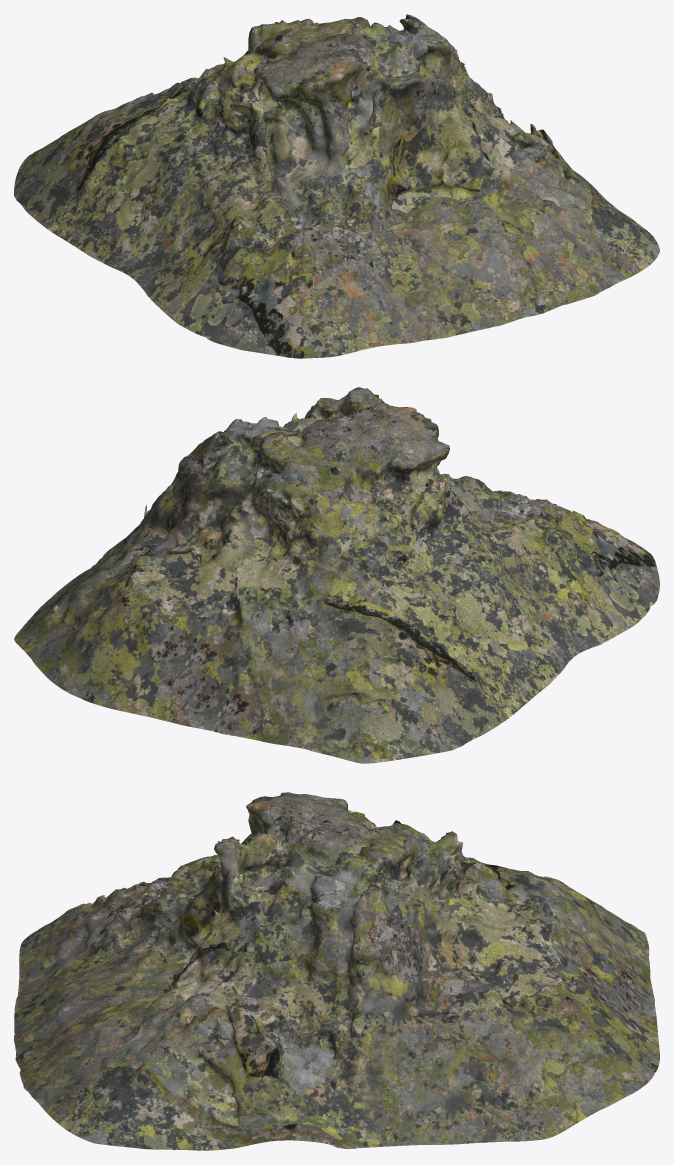
The model's file is tree_stump_01.gltf.
3 renders of one model, top to bottom at view 1: azimuth 30°, elevation 25°; view 2: azimuth 150°, elevation 25°; view 3: azimuth 270°, elevation 25°, orthographic. The views are drawn at different scales.
Parts seen in each view (by area): view 1: tree_stump_01; view 2: tree_stump_01; view 3: tree_stump_01.
Boxes of the visible parts, box(x1,y1,x2,y2) form: tree_stump_01: box(14, 14, 659, 358); tree_stump_01: box(14, 387, 659, 763); tree_stump_01: box(14, 792, 659, 1150).
Size of the model in its own units: 1.43 by 0.5727 by 1.59.
